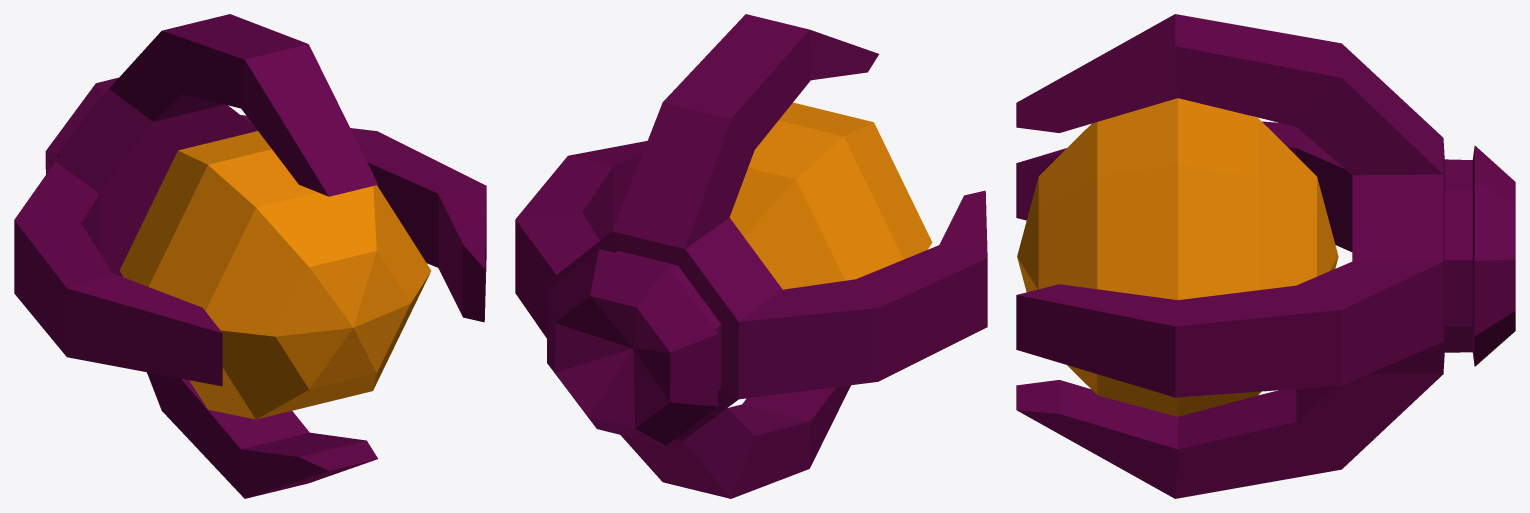
Rendered from turret_GEO.fbx.
3 views of the same model, side by side, from view 1: azimuth 30°, elevation 25°; view 2: azimuth 150°, elevation 25°; view 3: azimuth 270°, elevation 25° (orthographic). The views are drawn at different scales.
Parts seen in each view (by area): view 1: turret_base_GEO, turret_eye_GEO; view 2: turret_base_GEO, turret_eye_GEO; view 3: turret_base_GEO, turret_eye_GEO.
Boxes of the visible parts, x1,y1,x2,y2 form: turret_base_GEO: (14, 14, 486, 498); turret_eye_GEO: (119, 131, 431, 419); turret_base_GEO: (515, 14, 987, 498); turret_eye_GEO: (729, 102, 932, 289); turret_base_GEO: (1016, 14, 1515, 498); turret_eye_GEO: (1017, 98, 1338, 416).
Bounding box in the file's own units: 4.36 × 4.36 × 4.35.
